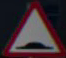Speed Breaker ahead: (7, 8, 56, 52)
